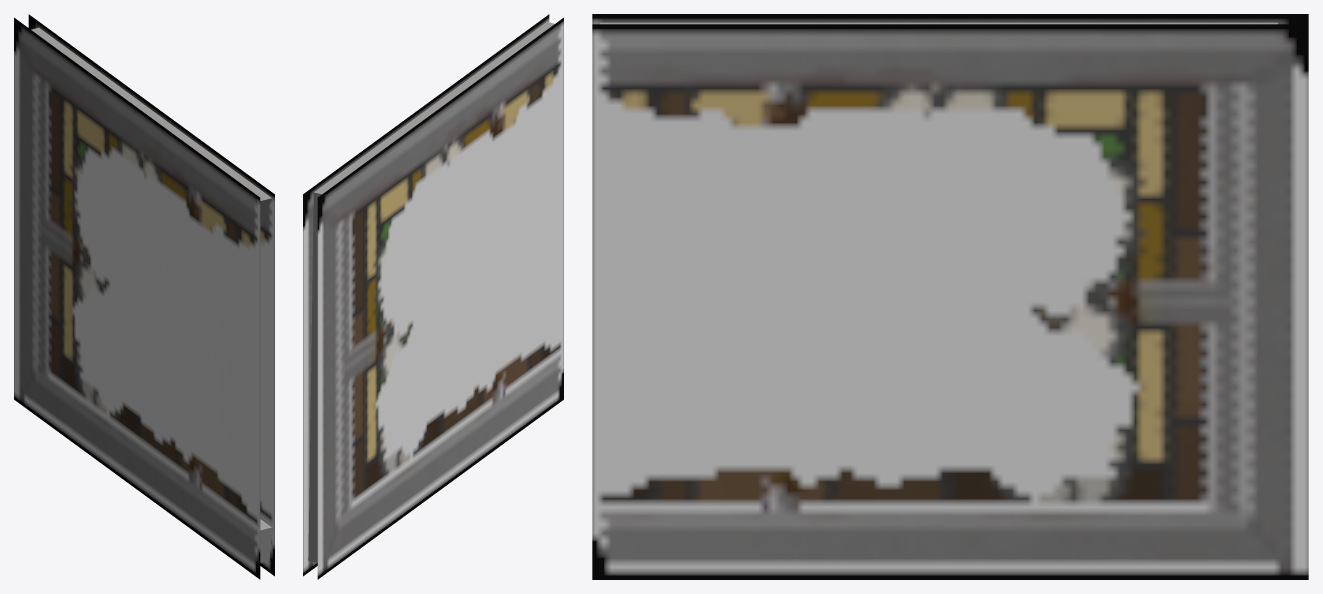
Rendered from pz_native_location_community_church_small_01_250_frame.obj.
The picture shows the model from 3 angles, left to right: view 1: azimuth 30°, elevation 25°; view 2: azimuth 150°, elevation 25°; view 3: azimuth 270°, elevation 25°; orthographic projection. The views are drawn at different scales.
Parts seen in each view (by area): view 1: pz_native_location_community_church_small_01_250_frame; view 2: pz_native_location_community_church_small_01_250_frame; view 3: pz_native_location_community_church_small_01_250_frame.
Boxes of the visible parts, x1,y1,x2,y2 form: pz_native_location_community_church_small_01_250_frame: (14, 14, 274, 579); pz_native_location_community_church_small_01_250_frame: (303, 14, 563, 579); pz_native_location_community_church_small_01_250_frame: (592, 14, 1308, 579).
Size of the model in its own units: 0.04 by 1.02 by 1.19.
1 material, 1 textured.
